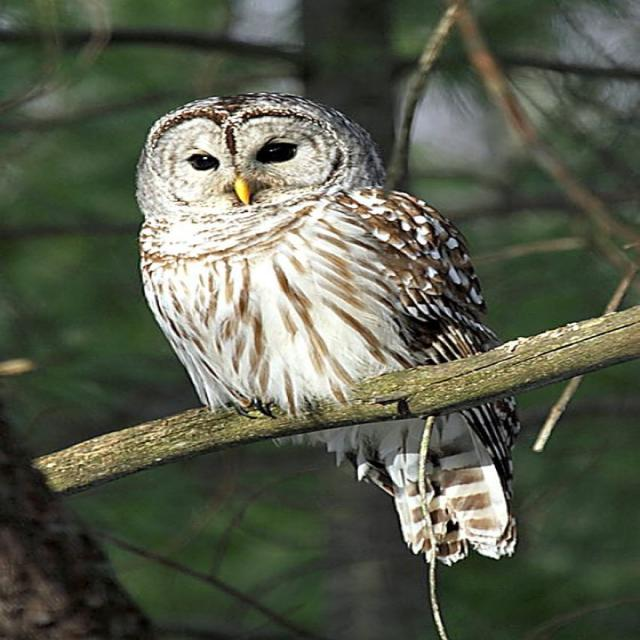Owl: (126, 79, 534, 574)
